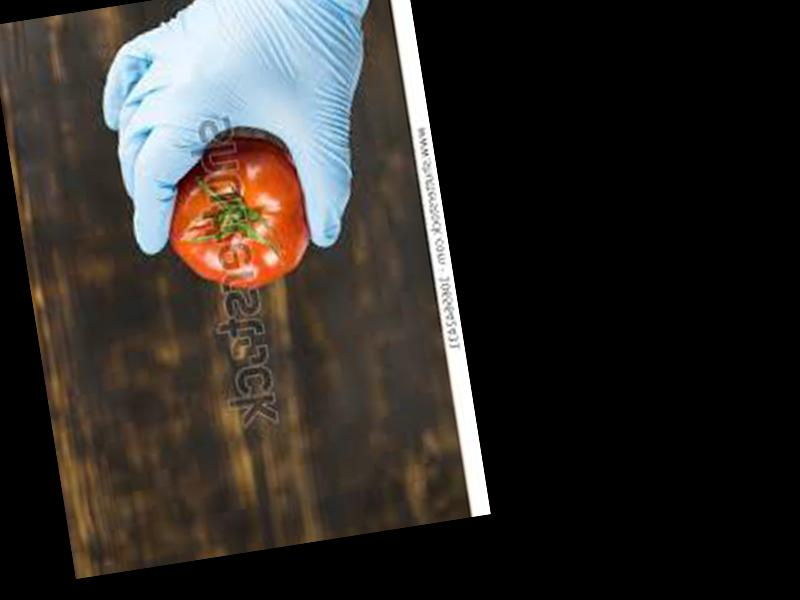Tomato: (155, 126, 318, 301)
